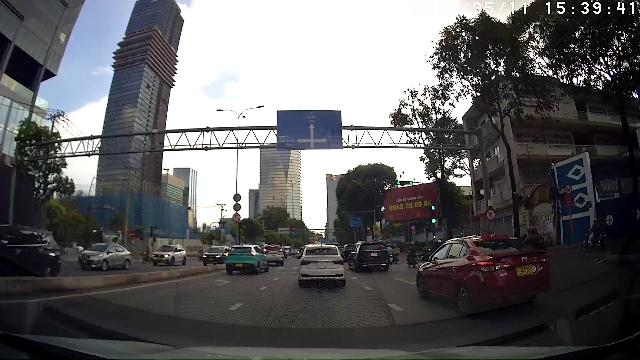103a-cam-oto: (564, 184, 573, 195)
103b-cam-oto-re-phai: (485, 208, 497, 221)
